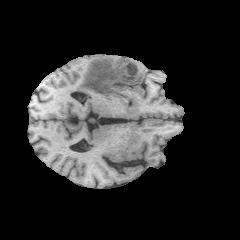glioma: (73, 57, 144, 99)
